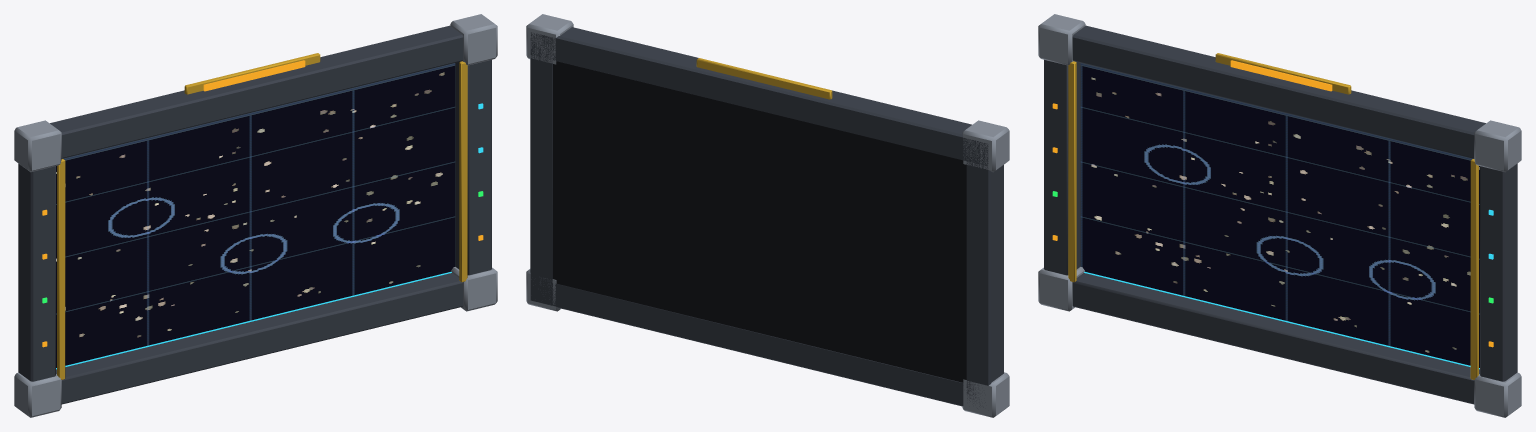
File: display_main_viewscreen.glb
3 renders of one model, left to right at view 1: azimuth 30°, elevation 25°; view 2: azimuth 150°, elevation 25°; view 3: azimuth 330°, elevation 25°, orthographic.
Parts seen in each view (by area): view 1: display_main_viewscreen; view 2: display_main_viewscreen; view 3: display_main_viewscreen.
Part boxes in pixels (box(x1,y1,x2,y2)): display_main_viewscreen: box(14, 14, 497, 417); display_main_viewscreen: box(526, 14, 1009, 417); display_main_viewscreen: box(1038, 14, 1521, 417).
Size of the model in its own units: 5.6 by 3.24 by 0.343.
9 materials, 1 textured.
